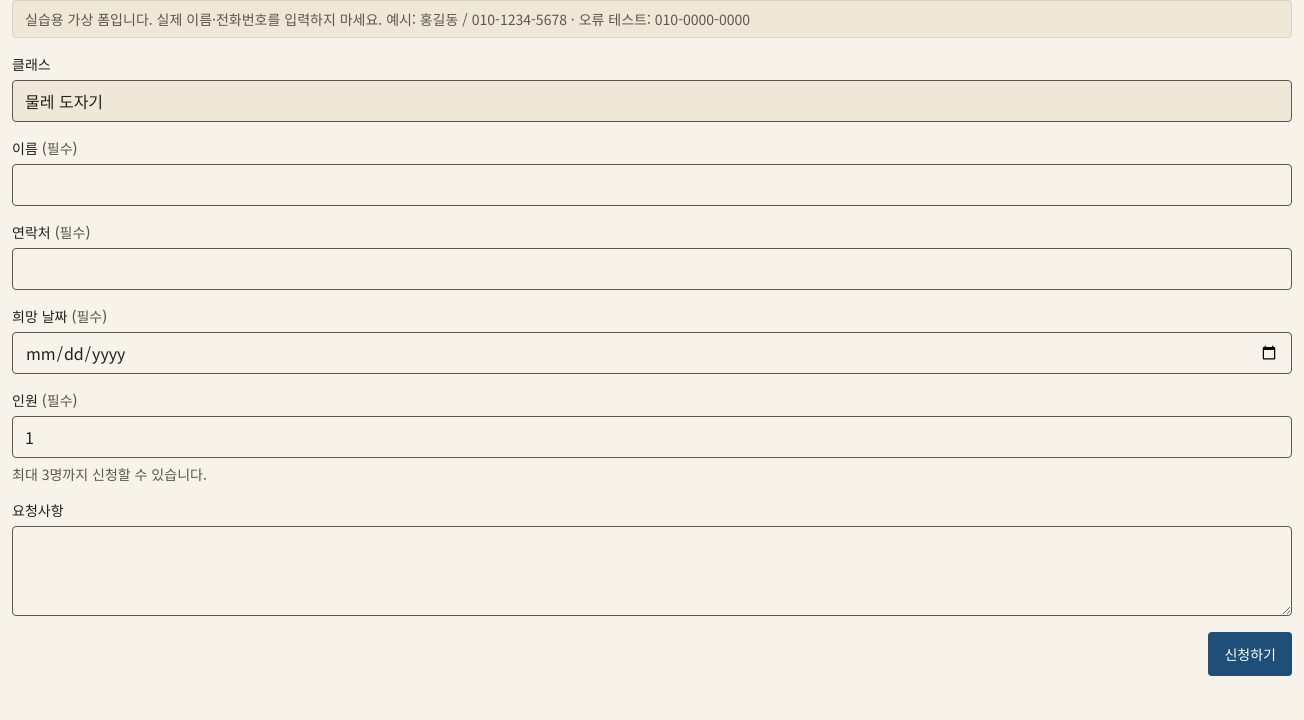
Test: ClassApplicationForm › 오늘·과거 날짜는 거부한다
The image size is (1304, 720).
Type "  홍길동 " into the field labelled "이름(필수)" at [652, 185], box [12, 164, 1292, 206]
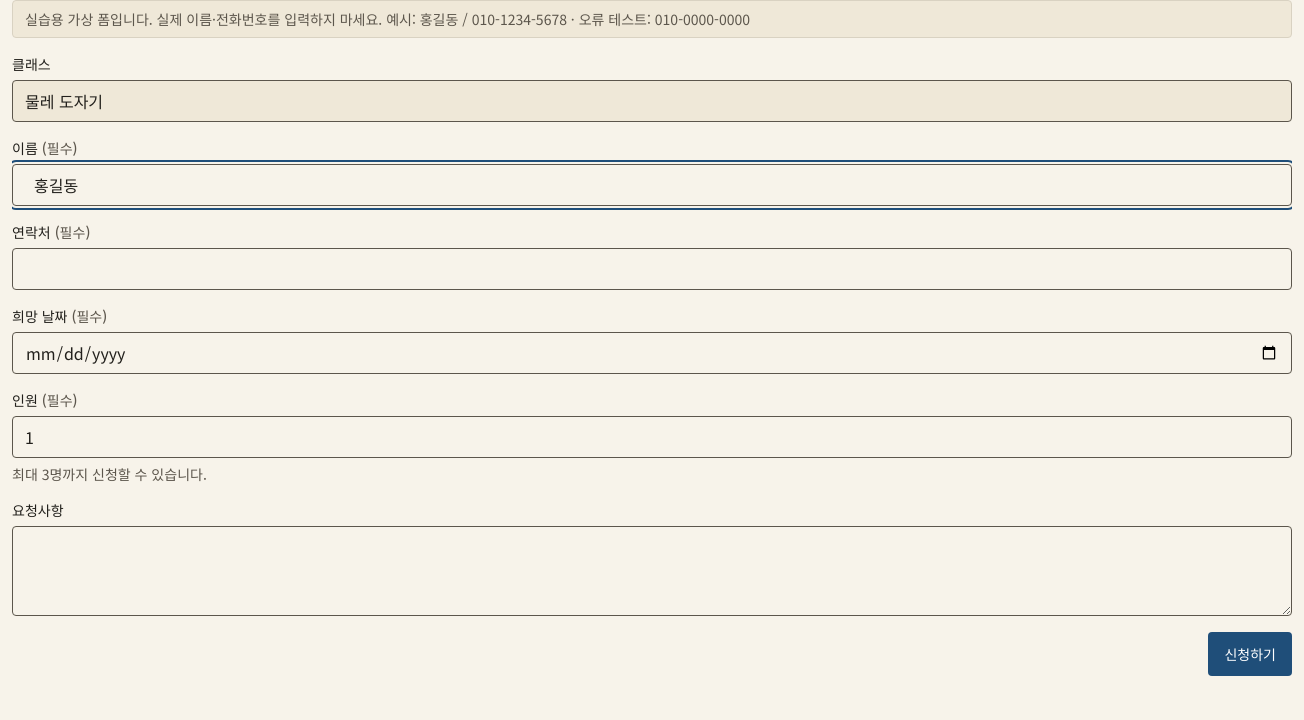
Type "010-1234-5678" into the field labelled "연락처(필수)" at [652, 269], box [12, 248, 1292, 290]
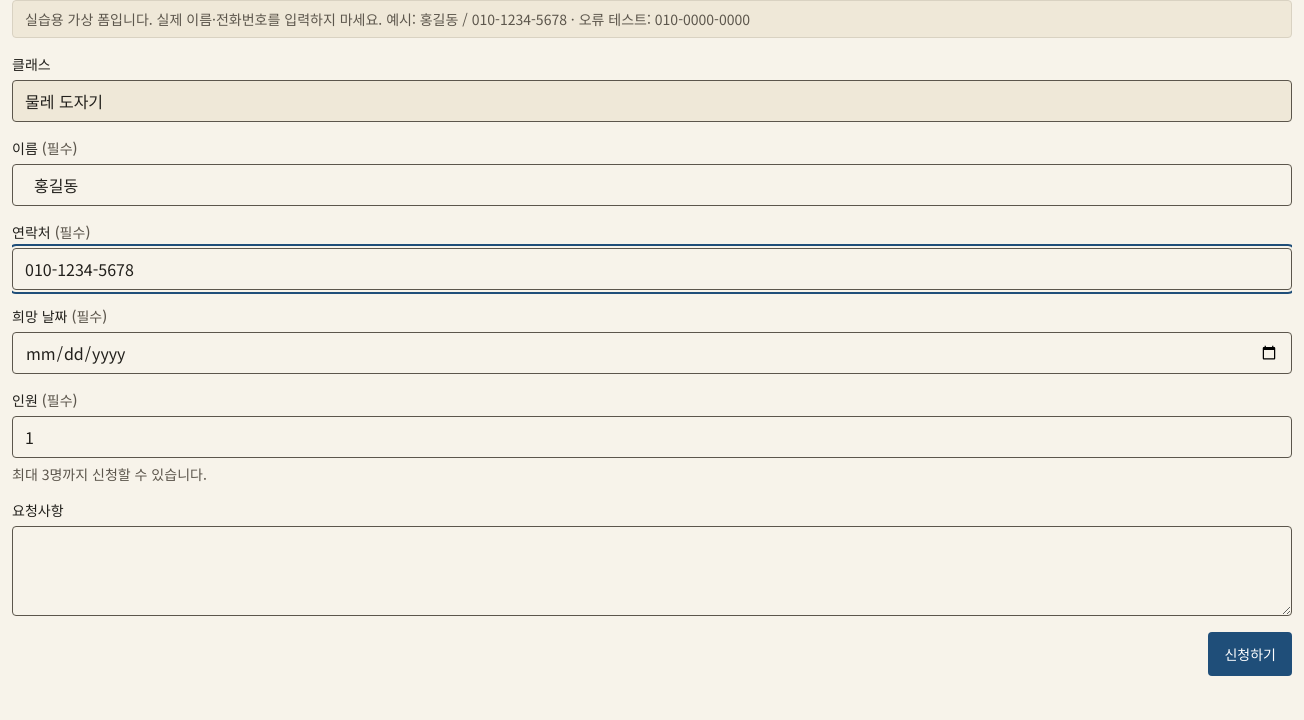
Type "2026-09-30" into the date field labelled "희망 날짜(필수)" at [652, 353], box [12, 332, 1292, 374]
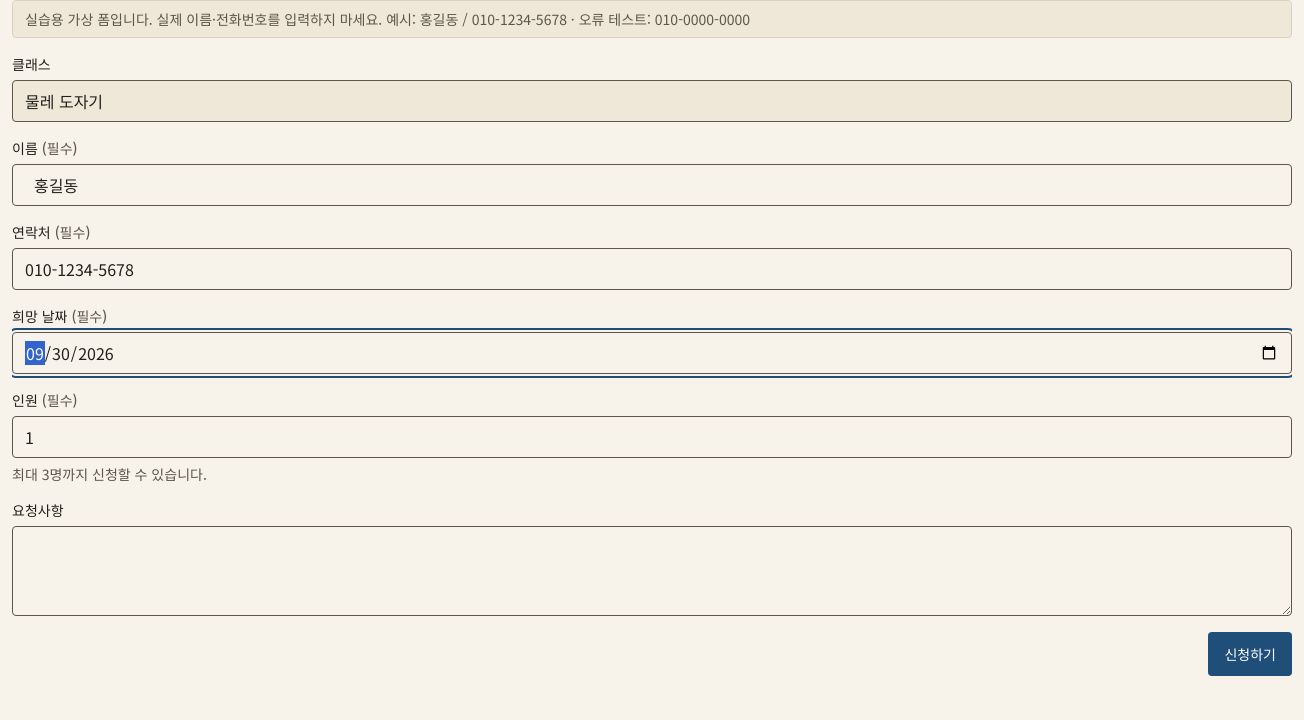
Click the button "신청하기" at [1250, 654], box [1208, 632, 1292, 676]
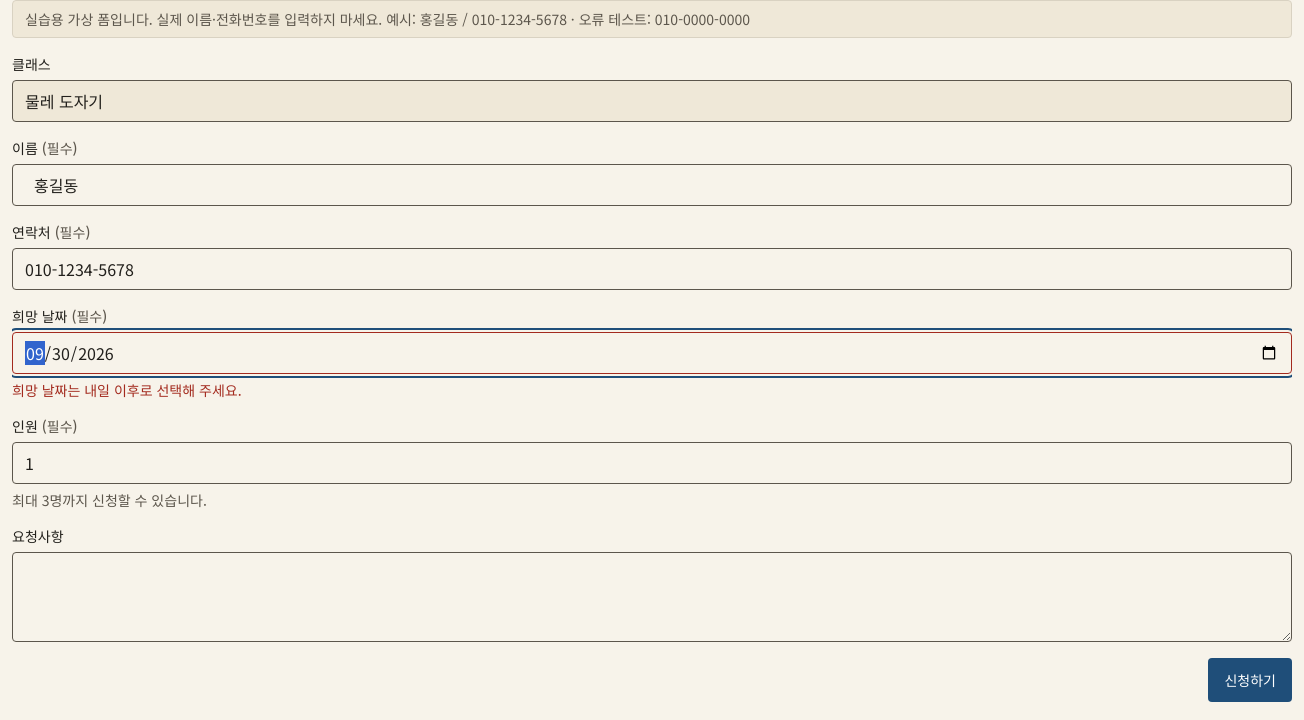
Result: the text "희망 날짜는 내일 이후로 선택해 주세요." is shown at [12, 380, 242, 400]
